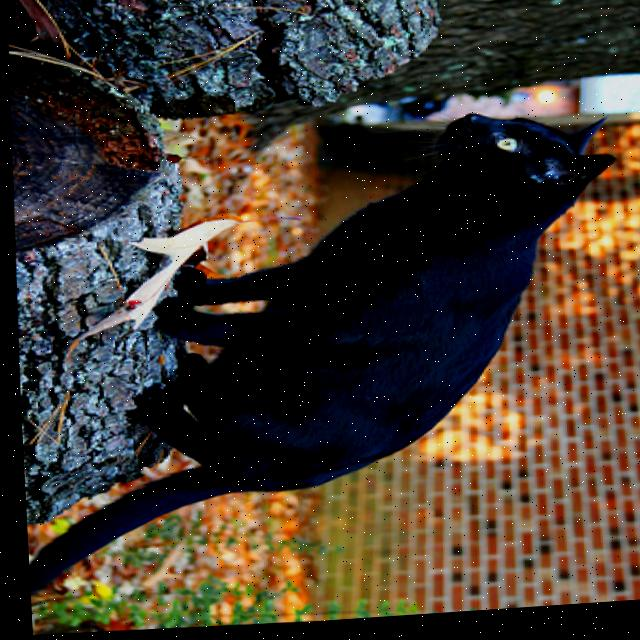Bombay: (5, 100, 636, 605)
